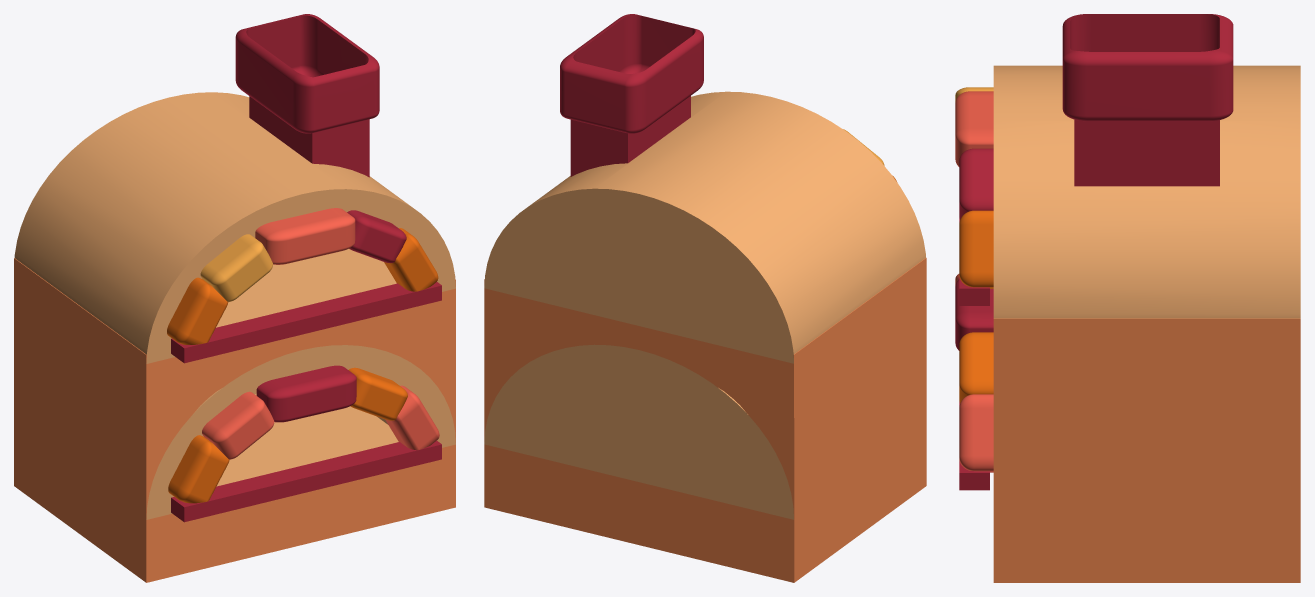
The model's file is pizza_oven.glb.
The picture shows the model from 3 angles, left to right: view 1: azimuth 30°, elevation 25°; view 2: azimuth 150°, elevation 25°; view 3: azimuth 270°, elevation 25°; orthographic projection. The views are drawn at different scales.
Visible parts, largest first — view 1: Object_7, Object_2, Object_3, Object_5, Object_4, Object_6; view 2: Object_7, Object_2, Object_3; view 3: Object_2, Object_7, Object_3, Object_4, Object_5.
Part boxes in pixels (<box>): Object_7: <box>14,92,455,519</box>; Object_2: <box>14,258,455,582</box>; Object_3: <box>171,14,441,522</box>; Object_5: <box>167,228,438,503</box>; Object_4: <box>202,208,439,459</box>; Object_6: <box>200,234,273,301</box>; Object_7: <box>484,91,925,519</box>; Object_2: <box>484,257,926,582</box>; Object_3: <box>560,14,703,176</box>; Object_2: <box>993,318,1300,582</box>; Object_7: <box>993,65,1300,318</box>; Object_3: <box>955,14,1233,490</box>; Object_4: <box>955,91,993,472</box>; Object_5: <box>959,210,993,403</box>.
Size of the model in its own units: 108 by 145 by 90.01.
